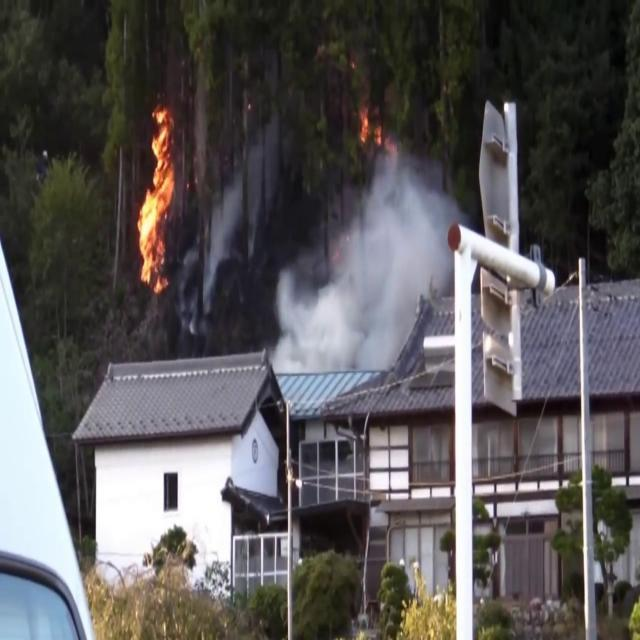Fire: (133, 98, 182, 295), (355, 104, 399, 162)
Smoke: (276, 144, 458, 380), (191, 174, 251, 306)
